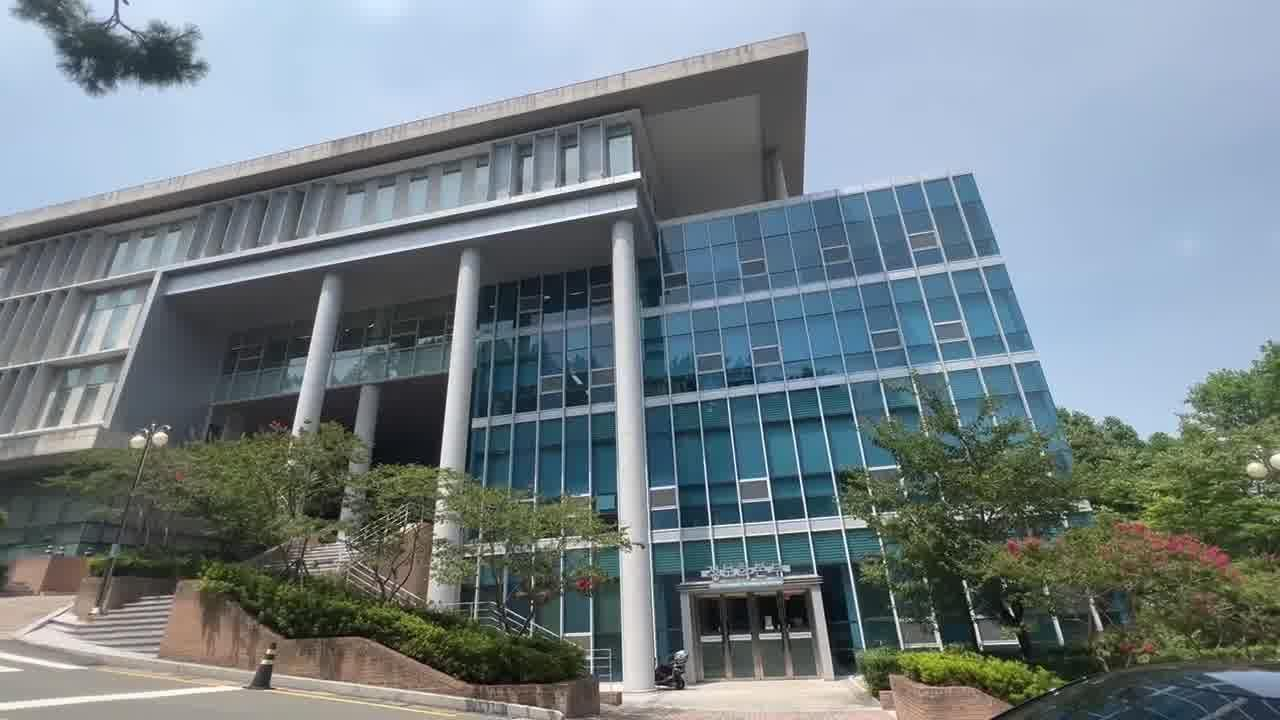building: (0, 48, 1116, 476)
